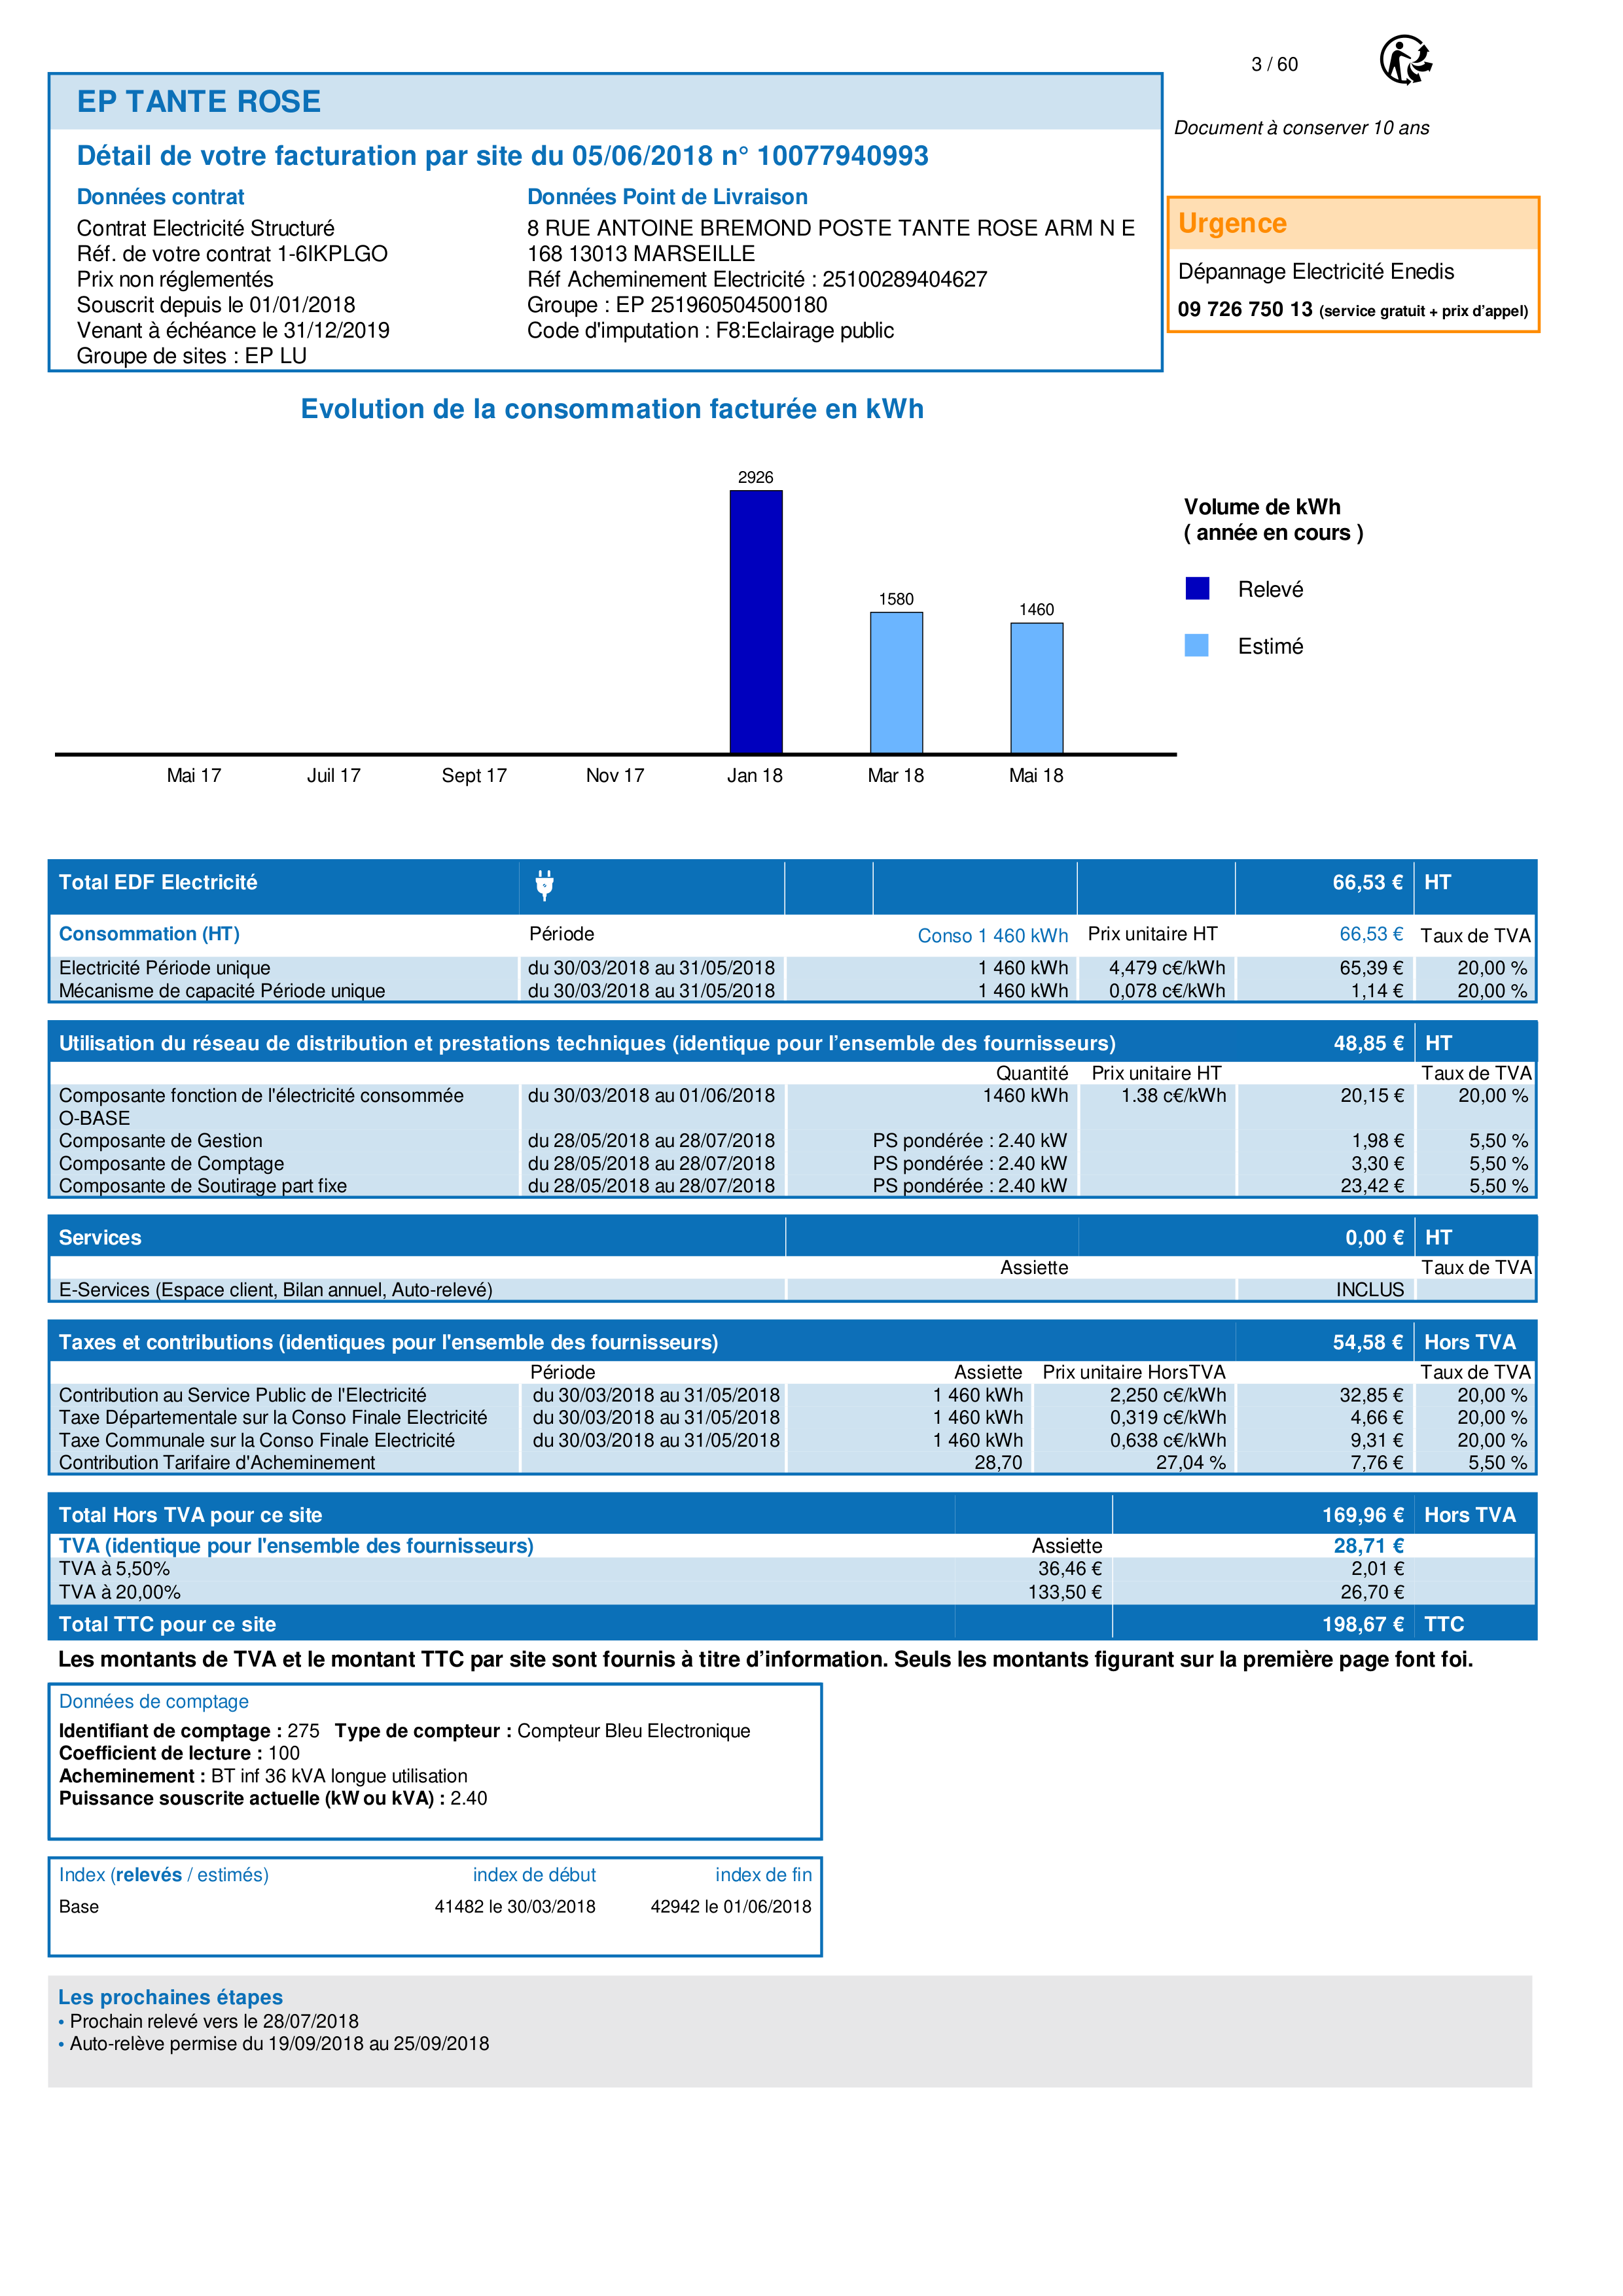area: (46, 1856, 821, 1954)
type_indicator: (45, 1856, 279, 1892)
